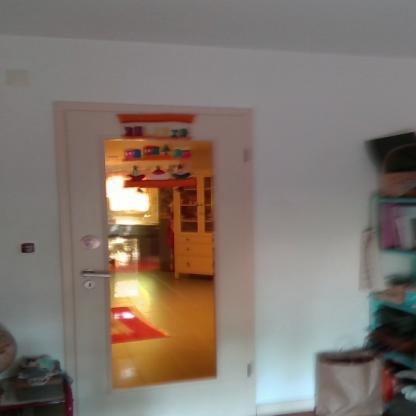door: (63, 110, 254, 416)
hinged: (242, 145, 252, 164), (245, 363, 253, 379)
lever: (79, 271, 113, 279)
